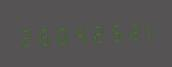five: (102, 19, 118, 45)
four: (68, 20, 84, 47)
one: (136, 17, 152, 43)
six: (34, 22, 50, 48)
two: (17, 23, 33, 49), (85, 20, 101, 46), (119, 18, 135, 44)
zero: (51, 21, 67, 47)
